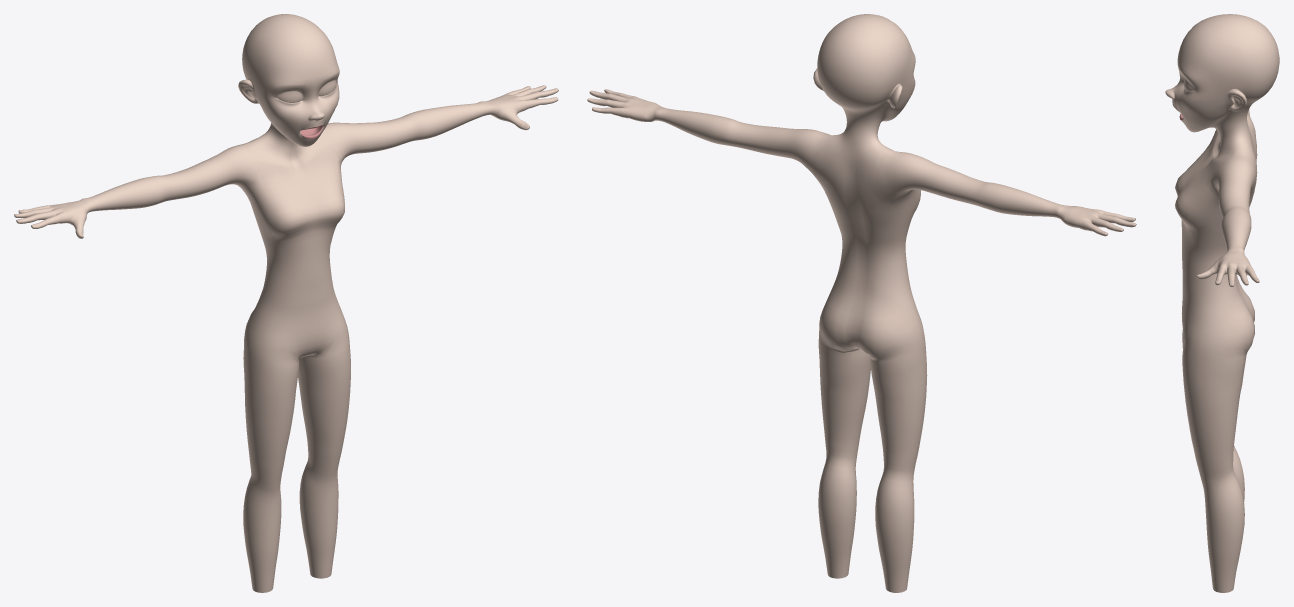
Rendered from MeryOpenMouth.fbx.
3 renders of one model, left to right at view 1: azimuth 30°, elevation 25°; view 2: azimuth 150°, elevation 25°; view 3: azimuth 270°, elevation 25°, orthographic.
Visible parts, largest first — view 1: Mery_geo_cn_body; view 2: Mery_geo_cn_body; view 3: Mery_geo_cn_body.
Part boxes in pixels (bbox=[...]): Mery_geo_cn_body: bbox=[14, 14, 558, 592]; Mery_geo_cn_body: bbox=[587, 14, 1136, 592]; Mery_geo_cn_body: bbox=[1165, 14, 1279, 592].
Bounding box in the file's own units: 150 × 148 × 27.53.
